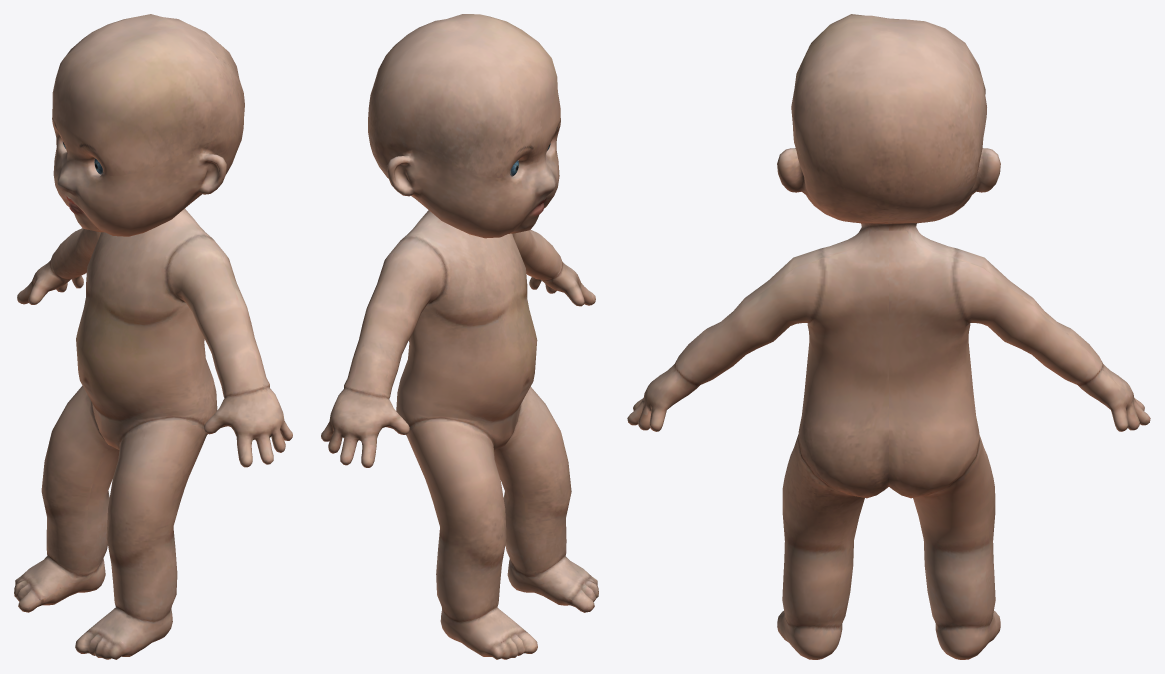
File: SM_BabyDoll_5.fbx
3 renders of one model, left to right at view 1: azimuth 30°, elevation 25°; view 2: azimuth 150°, elevation 25°; view 3: azimuth 270°, elevation 25°, orthographic. The views are drawn at different scales.
Visible parts, largest first — view 1: SM_BabyDoll_5; view 2: SM_BabyDoll_5; view 3: SM_BabyDoll_5.
Part boxes in pixels (x1,y1,x2,y2): SM_BabyDoll_5: (14,14,292,659); SM_BabyDoll_5: (321,14,598,659); SM_BabyDoll_5: (627,14,1150,659).
Size of the model in its own units: 8.05 by 17.89 by 24.57.
1 material, 1 textured.
